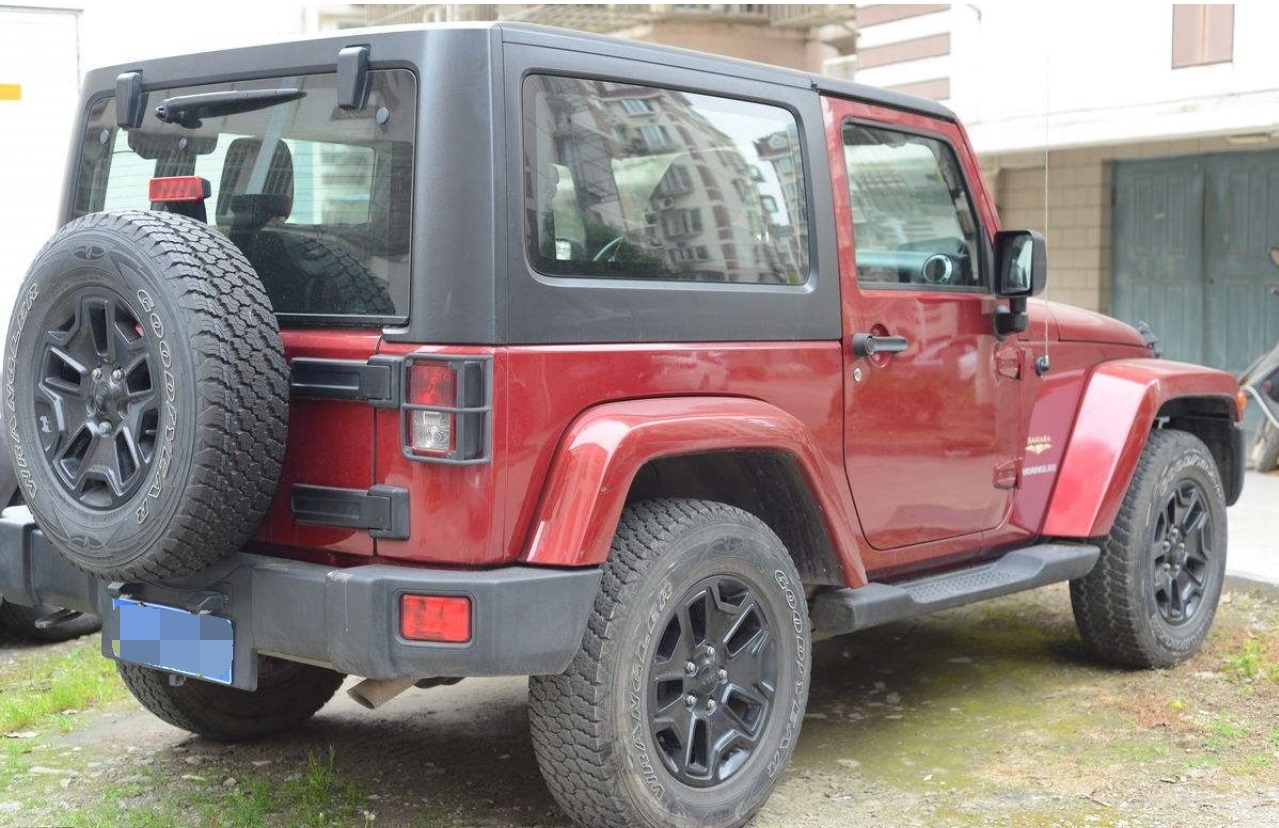jeep: (56, 31, 1262, 823)
